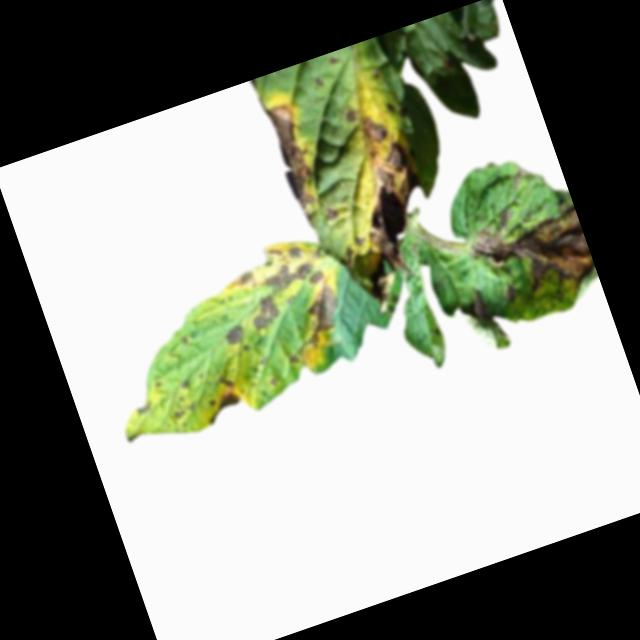Early_blight: (328, 139, 453, 312), (458, 187, 599, 317), (224, 228, 335, 309), (262, 101, 325, 211), (293, 277, 354, 347), (195, 373, 248, 425), (246, 293, 285, 334), (357, 109, 393, 148), (466, 286, 495, 332), (168, 391, 199, 422), (337, 245, 360, 274), (222, 324, 248, 349), (509, 166, 532, 190), (134, 399, 156, 419), (322, 205, 342, 225), (286, 350, 305, 371), (502, 286, 520, 305), (342, 106, 359, 124), (385, 102, 399, 115), (176, 379, 190, 392)
